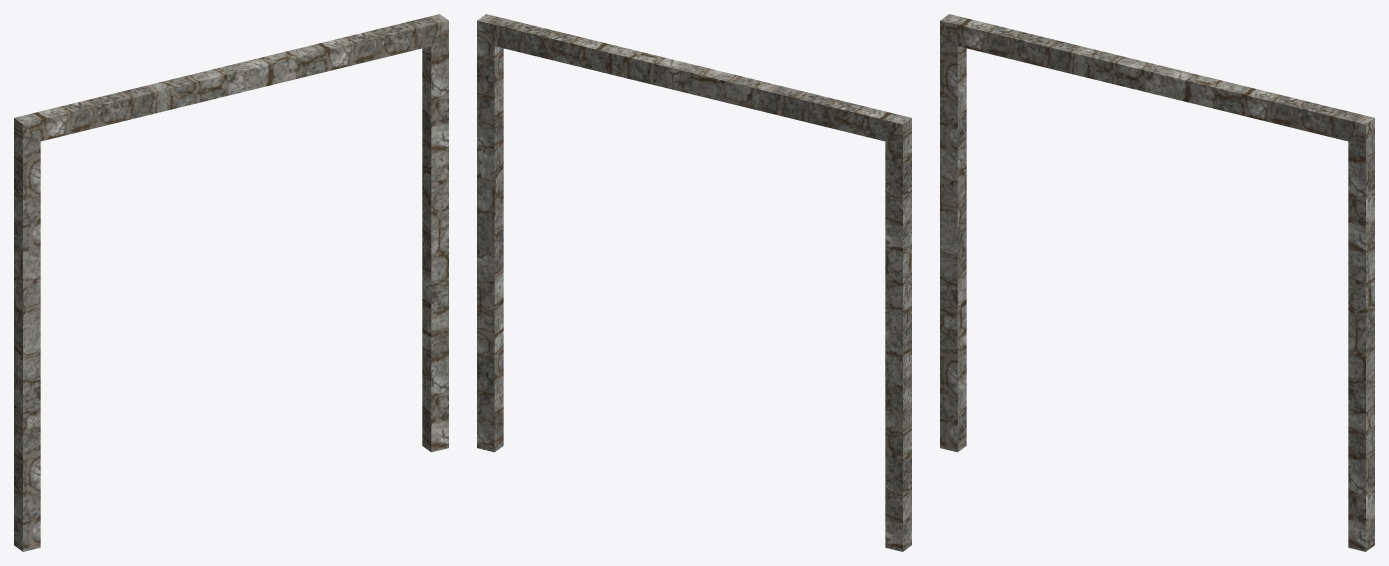
File: stone_wall_frame_textured.glb
3 views of the same model, side by side, from view 1: azimuth 30°, elevation 25°; view 2: azimuth 150°, elevation 25°; view 3: azimuth 330°, elevation 25° (orthographic).
Visible parts, largest first — view 1: Cube; view 2: Cube; view 3: Cube.
Boxes of the visible parts, bbox=[...] form: Cube: bbox=[14, 14, 448, 551]; Cube: bbox=[477, 14, 911, 551]; Cube: bbox=[940, 14, 1374, 551].
Size of the model in its own units: 2.09 by 2 by 0.0761.
1 material, 1 textured.
